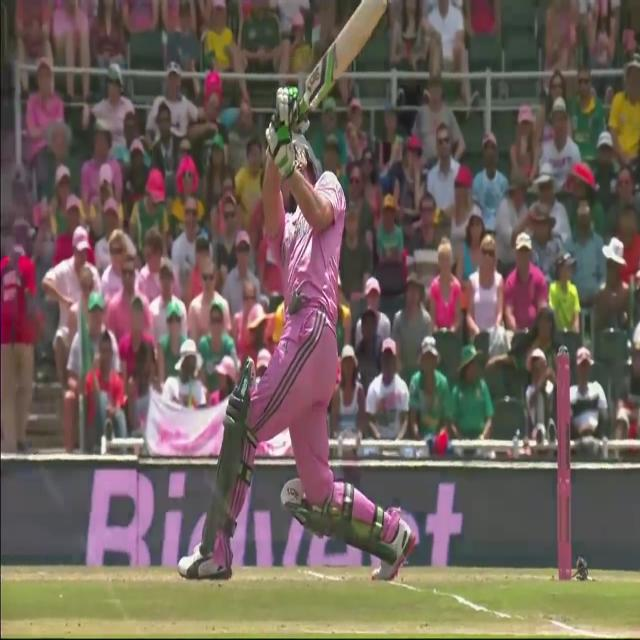Ball: (175, 128, 417, 585)
